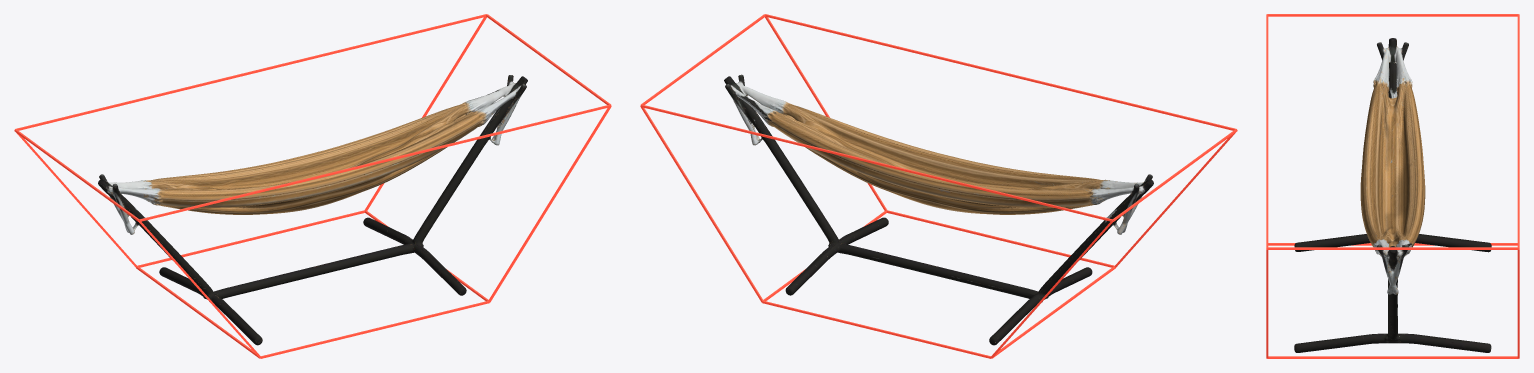
Rendered from sway-brown-ar.glb.
3 views of the same model, side by side, from view 1: azimuth 30°, elevation 25°; view 2: azimuth 150°, elevation 25°; view 3: azimuth 270°, elevation 25° (orthographic).
Parts seen in each view (by area): view 1: Mesh_0, footprint; view 2: Mesh_0, footprint; view 3: Mesh_0, footprint.
Part boxes in pixels (box(x1,y1,x2,y2)): Mesh_0: box(98, 75, 527, 345); footprint: box(14, 14, 611, 358); Mesh_0: box(724, 74, 1153, 345); footprint: box(640, 14, 1237, 358); Mesh_0: box(1294, 38, 1491, 352); footprint: box(1266, 14, 1519, 358).
Size of the model in its own units: 3.31 by 1.13 by 1.51.
2 materials, 1 textured.
